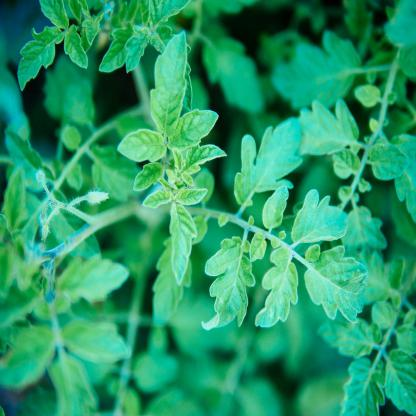tomato leaf: (232, 114, 301, 215), (202, 229, 255, 339), (303, 244, 368, 324), (290, 188, 352, 250), (151, 28, 184, 142), (259, 240, 295, 344), (164, 105, 224, 151), (167, 198, 196, 286), (117, 129, 166, 164)
